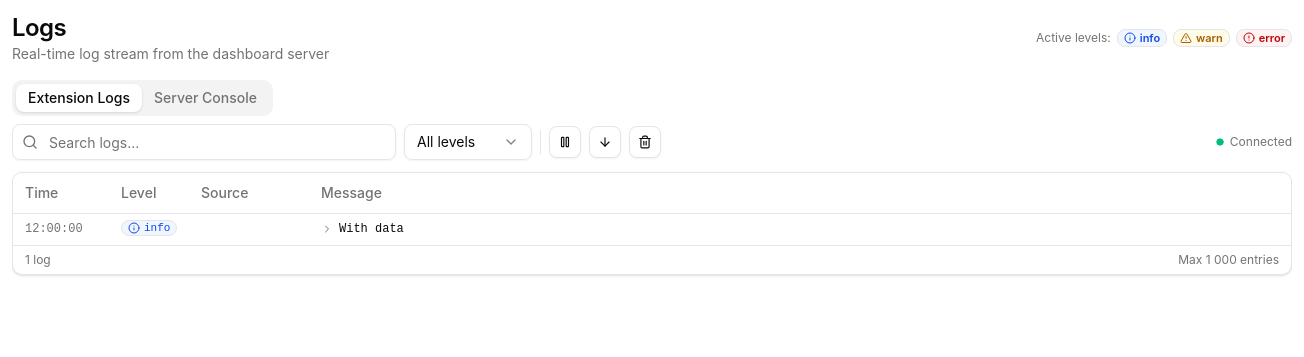
LogsPage › log entry with data is expandable
Click the button "12:00:00 info With data": (54, 229) [13,213,1291,245]
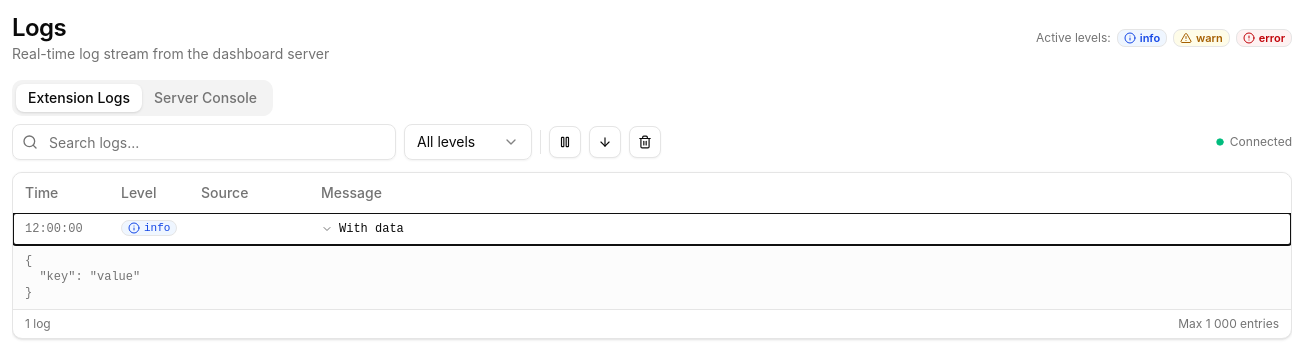
Expected: the text "{ \"key\": \"value\" }" is shown, [25,254,140,300]
